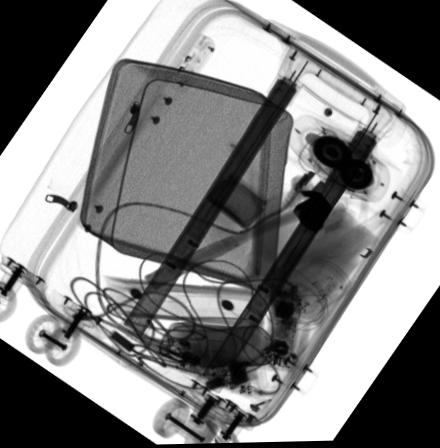Hammer: (143, 190, 333, 291)
